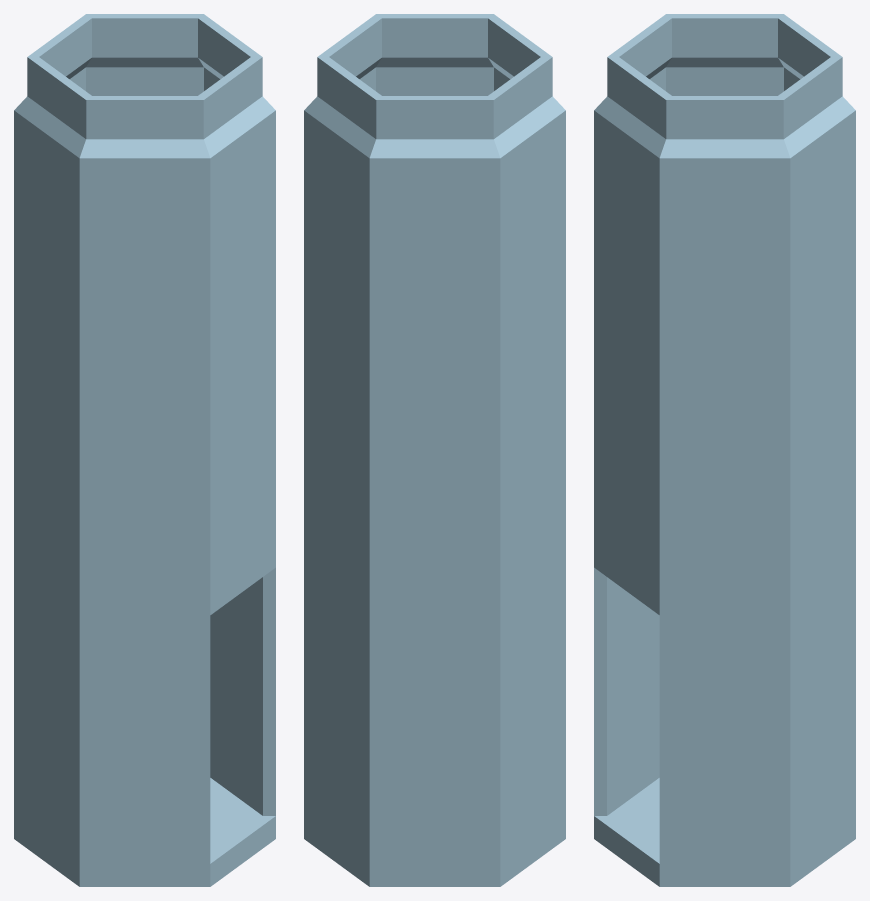
Rendered from Troncho_central_antena_01.fbx.
The picture shows the model from 3 angles, left to right: view 1: azimuth 30°, elevation 25°; view 2: azimuth 150°, elevation 25°; view 3: azimuth 270°, elevation 25°; orthographic projection.
Parts seen in each view (by area): view 1: Troncho_central_antena; view 2: Troncho_central_antena; view 3: Troncho_central_antena.
Boxes of the visible parts, x1,y1,x2,y2 form: Troncho_central_antena: (14,14,275,886); Troncho_central_antena: (304,14,565,886); Troncho_central_antena: (594,14,855,886).
Size of the model in its own units: 86.6 by 330 by 100.
